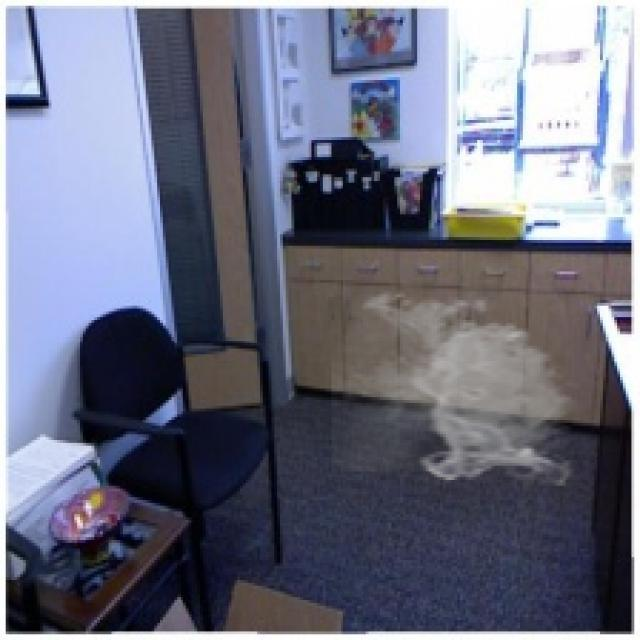Smoke: (331, 286, 580, 486)
